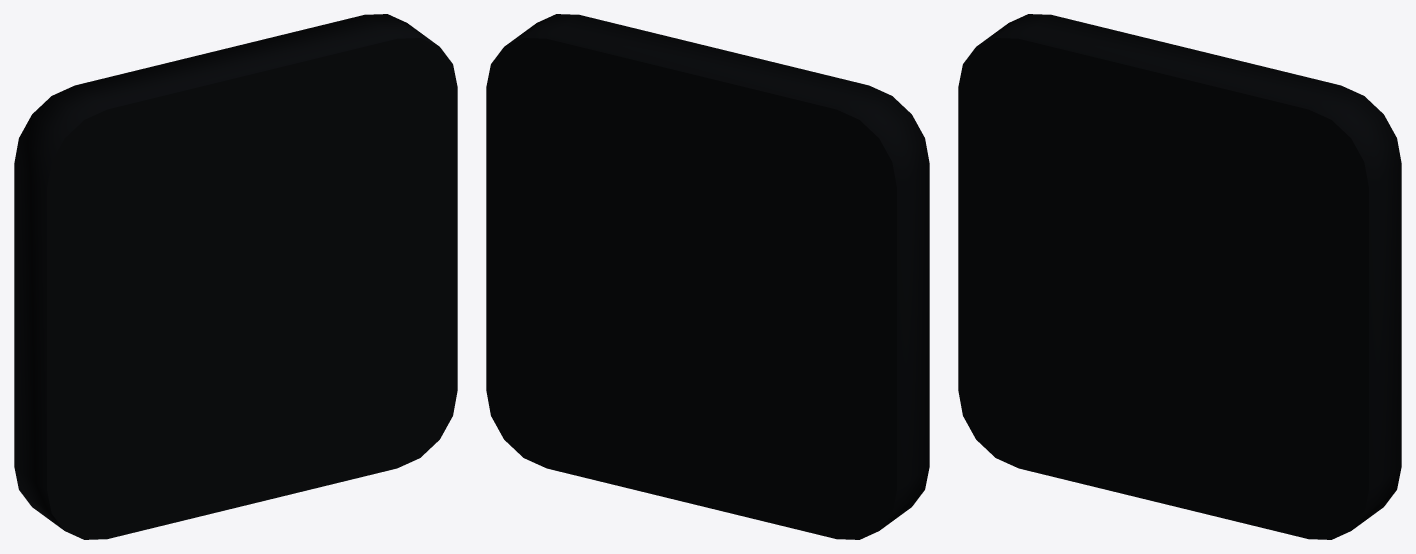
The model's file is button.glb.
3 renders of one model, left to right at view 1: azimuth 30°, elevation 25°; view 2: azimuth 150°, elevation 25°; view 3: azimuth 330°, elevation 25°, orthographic.
Visible parts, largest first — view 1: Button; view 2: Button; view 3: Button.
Part boxes in pixels (<box>): Button: <box>14,14,457,539</box>; Button: <box>486,14,929,539</box>; Button: <box>958,14,1401,539</box>.
Size of what is drawn, in the model's own units: 0.32 by 0.32 by 0.0442.
Materials: 1 (1 with a texture image).
